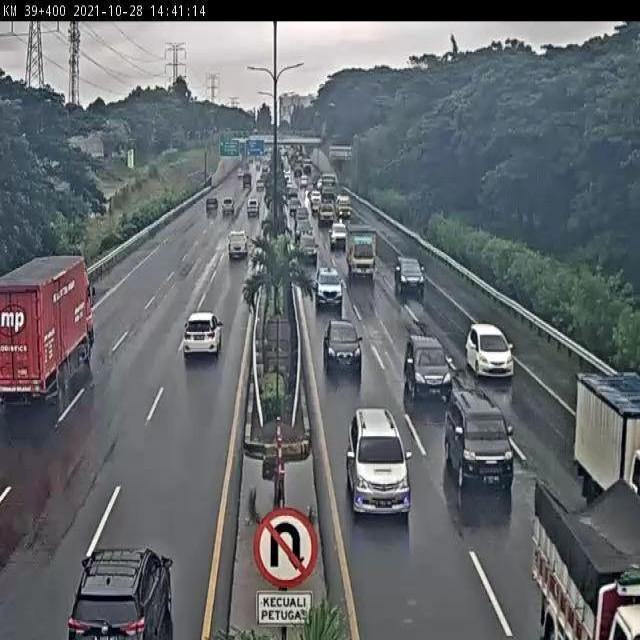car: (343, 408, 411, 520), (442, 388, 514, 491), (403, 335, 455, 399), (465, 320, 517, 380), (181, 311, 224, 361), (322, 316, 360, 369), (313, 264, 345, 311), (391, 255, 425, 292), (296, 232, 320, 264), (225, 232, 247, 260)
truck: (0, 253, 91, 407), (344, 224, 374, 276)
